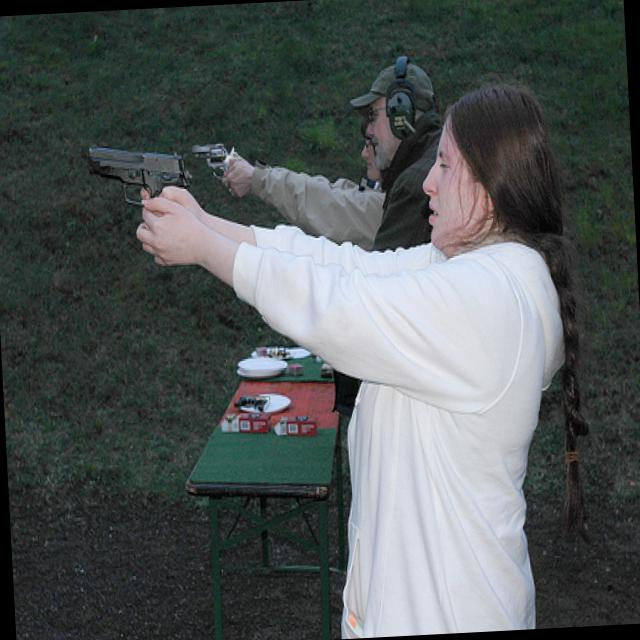handgun: (86, 134, 196, 222), (188, 134, 235, 183)
